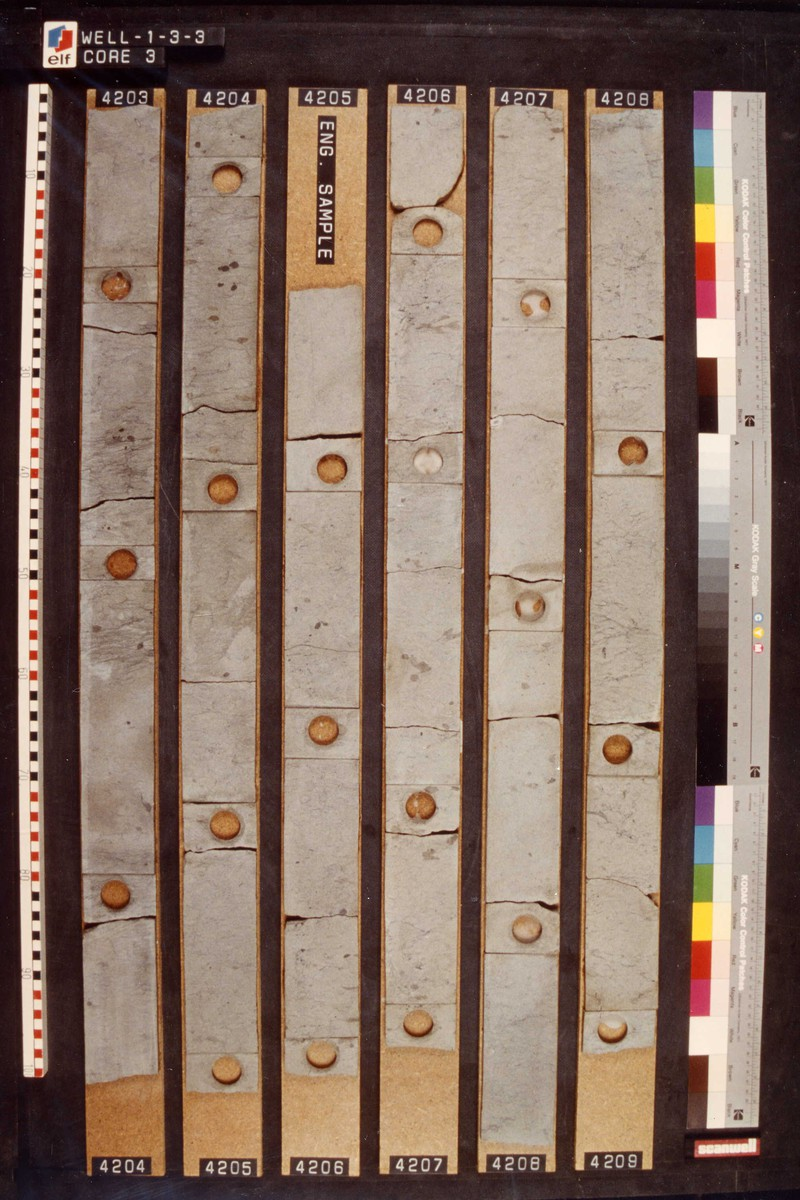core: (481, 105, 570, 1156), (184, 105, 262, 1095), (84, 106, 161, 1087), (586, 108, 665, 1051), (386, 101, 460, 1051), (287, 283, 362, 1082)
